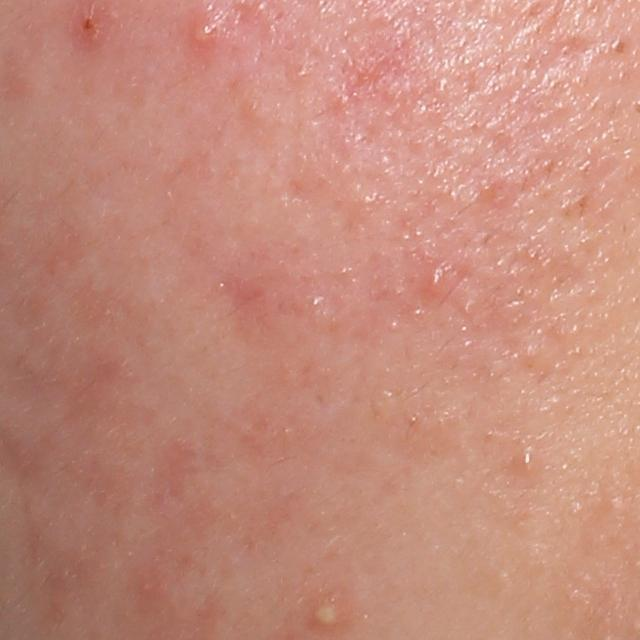comedo: (513, 445, 541, 478)
papule: (71, 3, 109, 39), (422, 263, 448, 300)
pustule: (303, 595, 348, 631)
